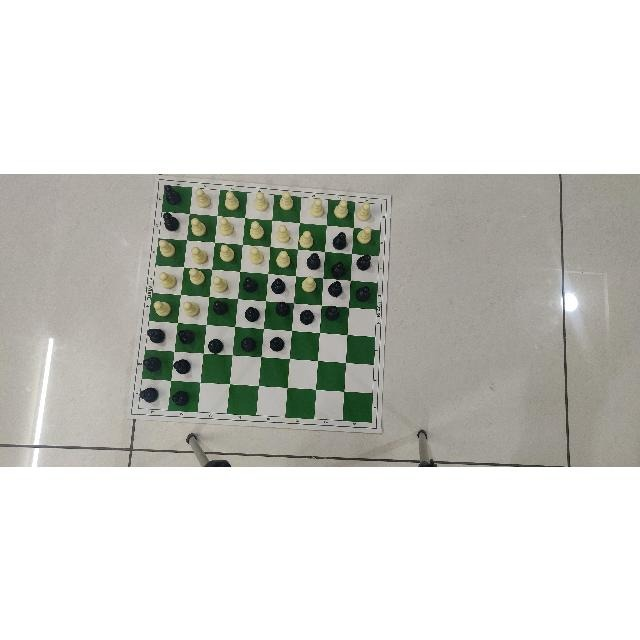black-pawn: (170, 388, 190, 408), (164, 182, 181, 205), (162, 210, 179, 232), (176, 325, 195, 344), (330, 259, 348, 279), (146, 326, 166, 343), (139, 385, 159, 402), (356, 250, 372, 271), (212, 298, 230, 316), (354, 283, 371, 302), (332, 230, 348, 250), (142, 356, 162, 372), (240, 335, 258, 352), (173, 357, 191, 374), (207, 336, 224, 353), (271, 277, 287, 295), (242, 275, 258, 293), (324, 303, 340, 321), (306, 250, 321, 269), (244, 305, 260, 322), (327, 279, 342, 297), (275, 300, 290, 318), (269, 336, 285, 352), (299, 308, 314, 324)
white-pawn: (195, 185, 211, 208), (158, 238, 176, 258), (158, 271, 178, 289), (298, 228, 315, 249), (224, 190, 240, 212), (190, 245, 208, 264), (188, 266, 206, 285), (181, 299, 200, 317), (154, 298, 172, 317), (333, 197, 349, 218), (309, 196, 325, 217), (278, 189, 294, 210), (275, 223, 291, 244), (355, 201, 371, 221), (357, 224, 373, 244), (275, 248, 291, 268), (249, 220, 265, 240), (249, 245, 265, 265), (219, 216, 235, 236), (191, 216, 207, 236), (219, 243, 235, 263), (211, 275, 228, 293), (253, 191, 268, 211), (301, 275, 317, 293)
